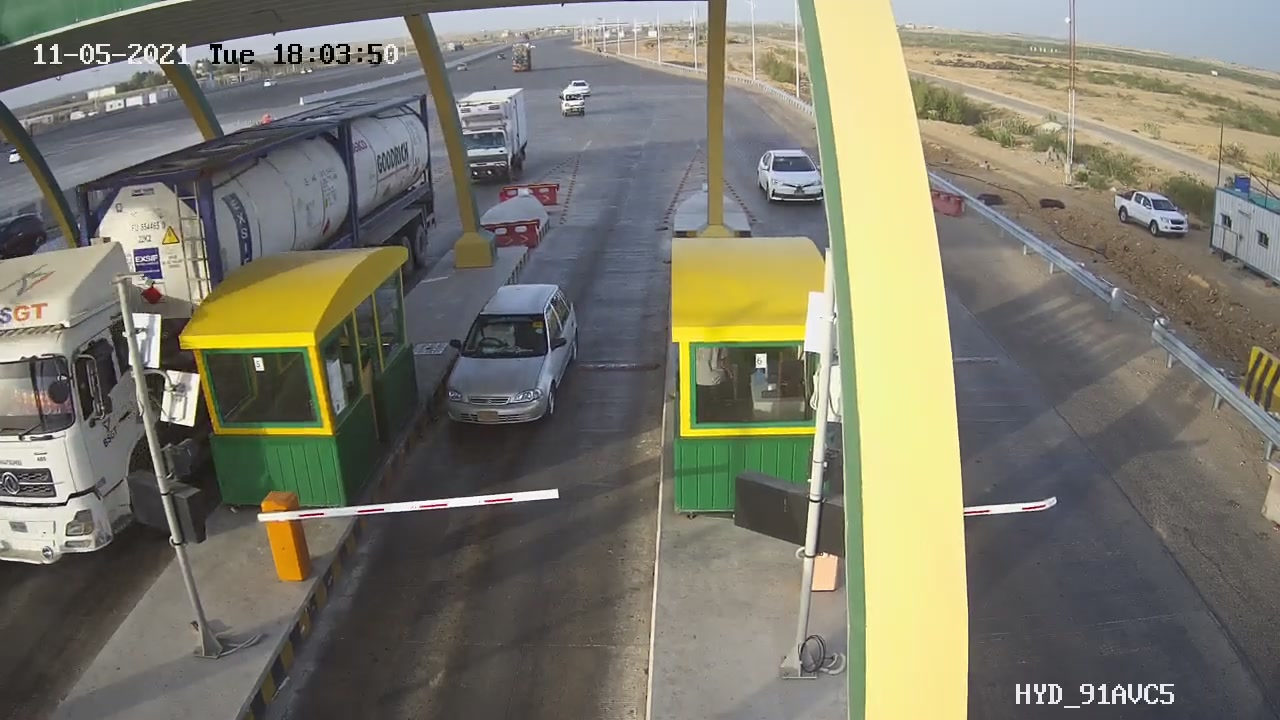F1: (429, 270, 587, 443)
